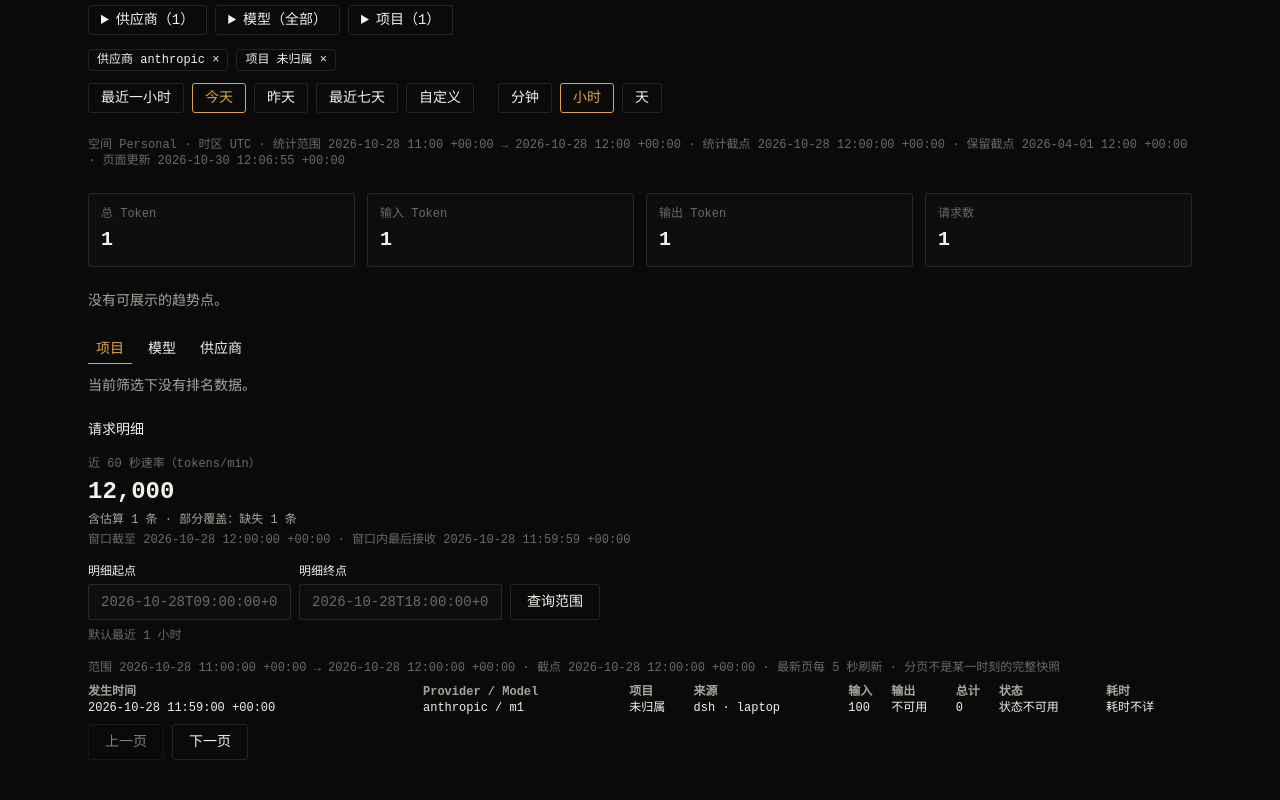
Test: request log panel › sends filters with unattributed mapping and no range, and pages by cursor
This screenshot has width=1280, height=800.
(page scrolled)
Check: the row with test id "request-row" is shown, box top-left (88, 700), bottom-right (1192, 716)
Click the button "下一页" at (210, 742), box top-left (172, 724), bottom-right (248, 760)
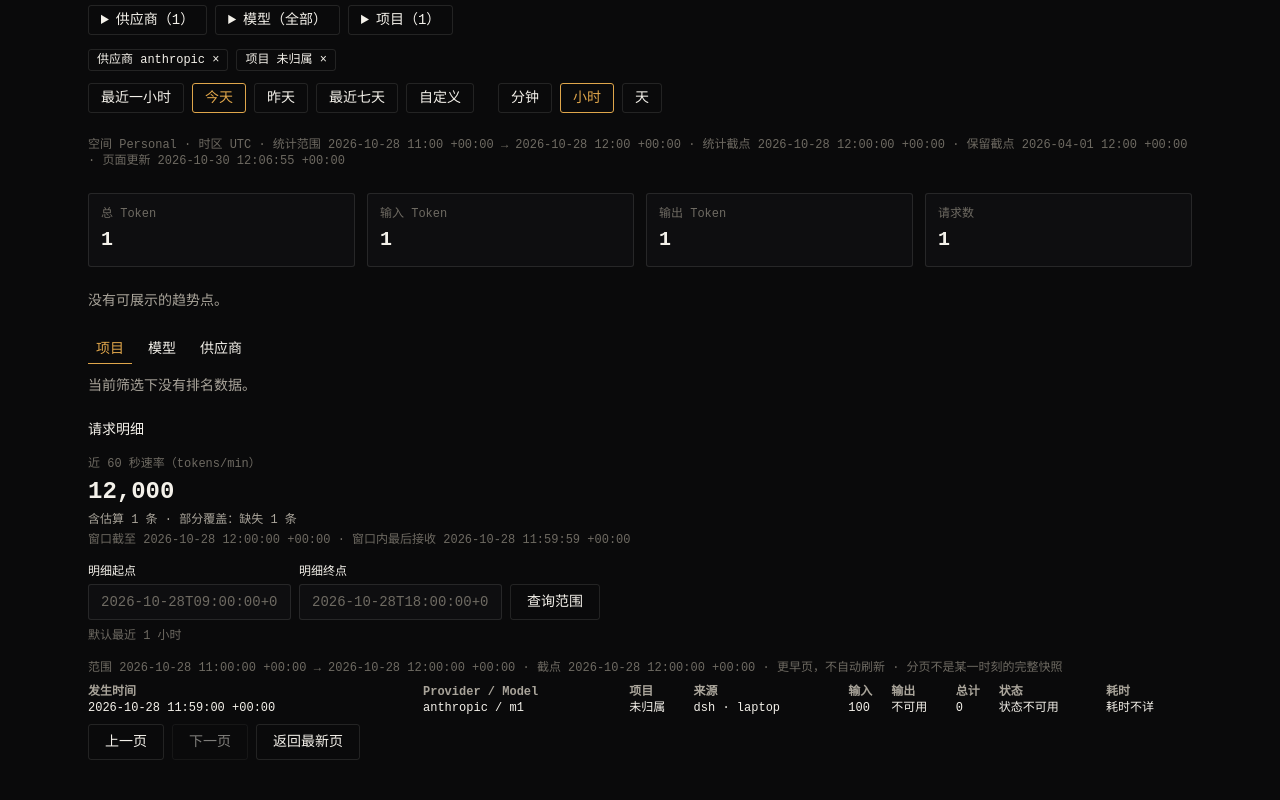
Check: the text "更早页，不自动刷新" is shown, box top-left (755, 661), bottom-right (885, 675)
Check: the button "下一页" is disabled, box top-left (172, 724), bottom-right (248, 760)
Click the button "返回最新页" at (308, 742), box top-left (256, 724), bottom-right (360, 760)
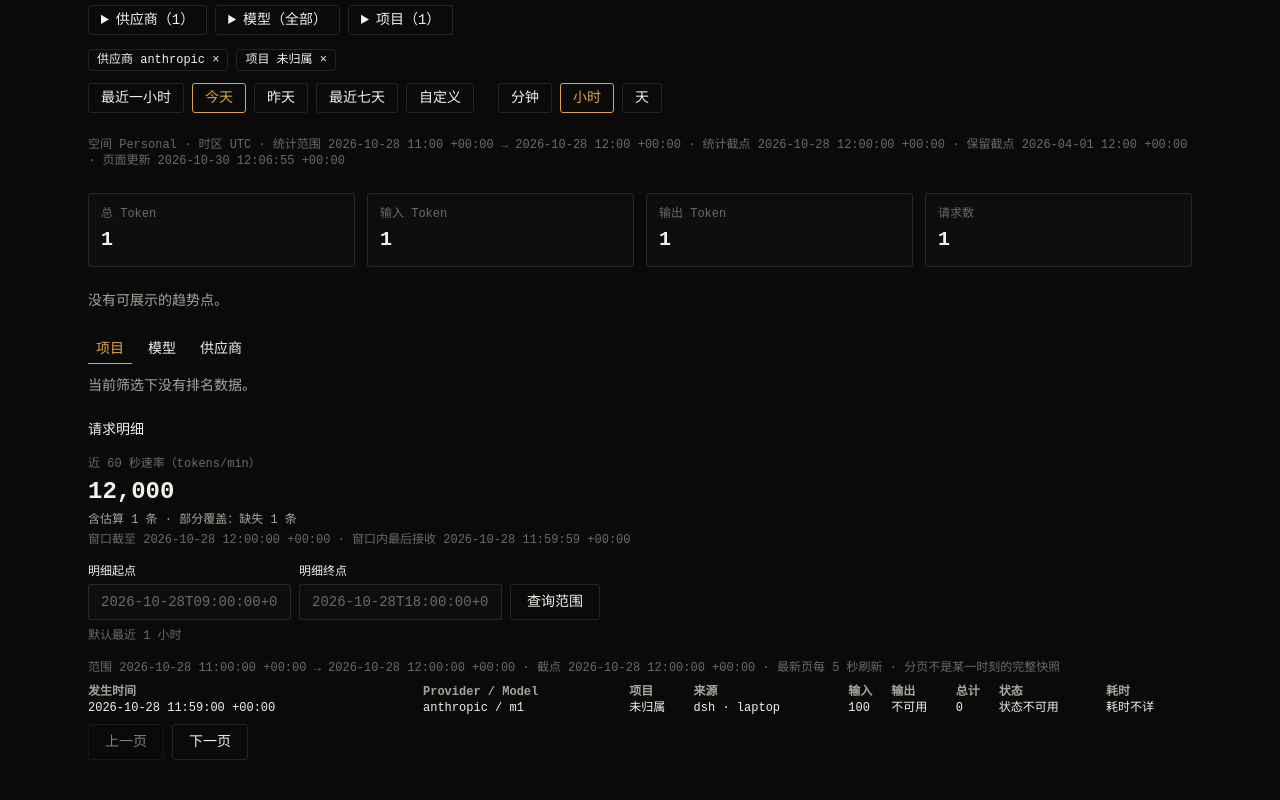
Check: the text "更早页" is gone
Check: the button "上一页" is disabled, box top-left (88, 724), bottom-right (164, 760)
